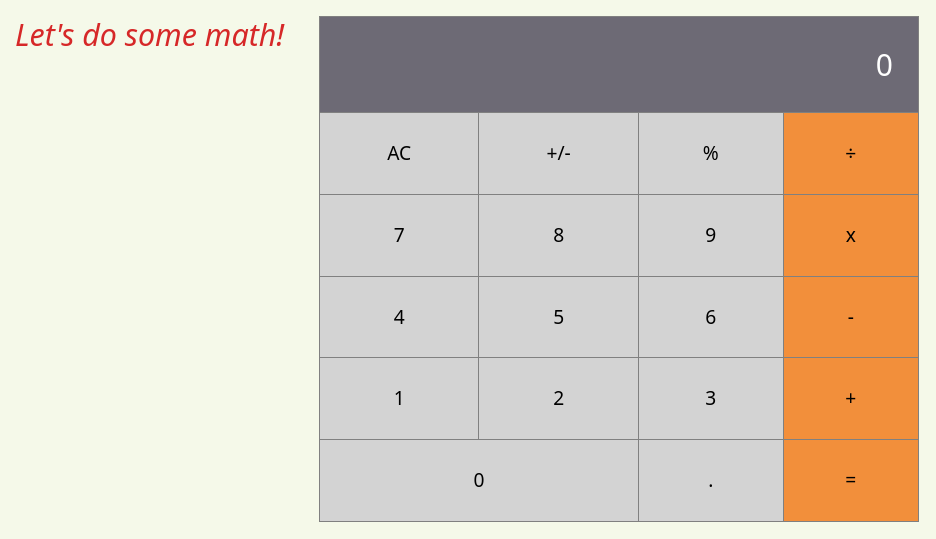
Calculator component › Subtraction is carried out correctly
Click the button "2". click: {"x": 559, "y": 399}
box: [547,383,570,414]
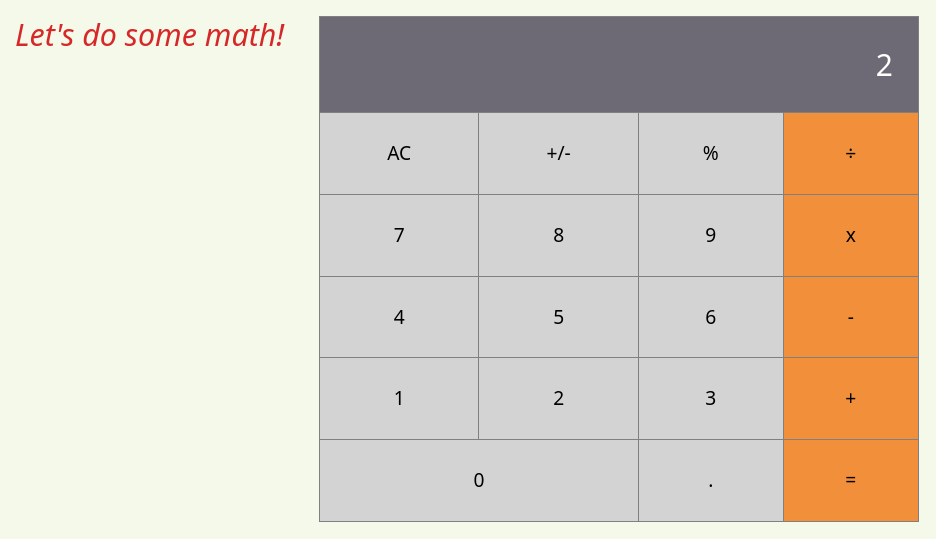
Click the button "-". click: {"x": 851, "y": 317}
box: [842,302,860,332]
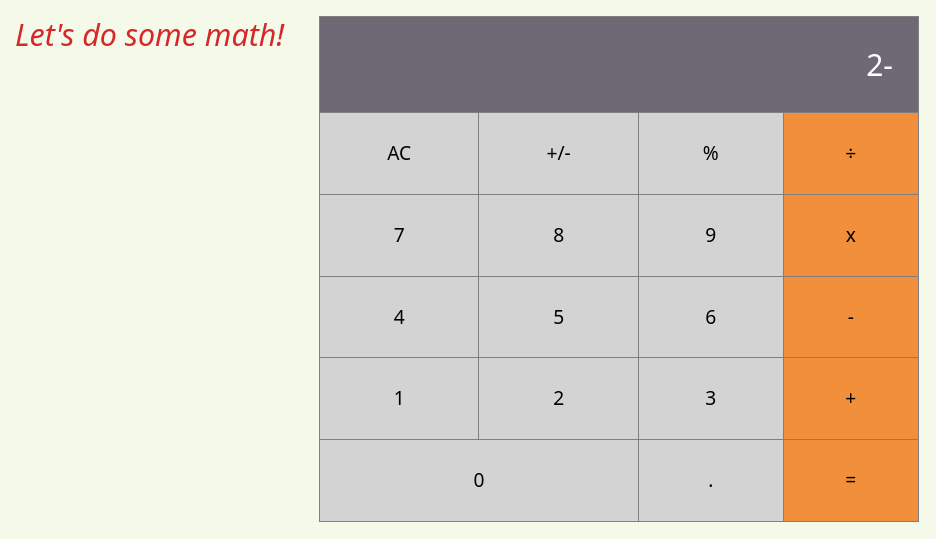
Click the button "2". click: {"x": 559, "y": 399}
box: [547,383,570,414]
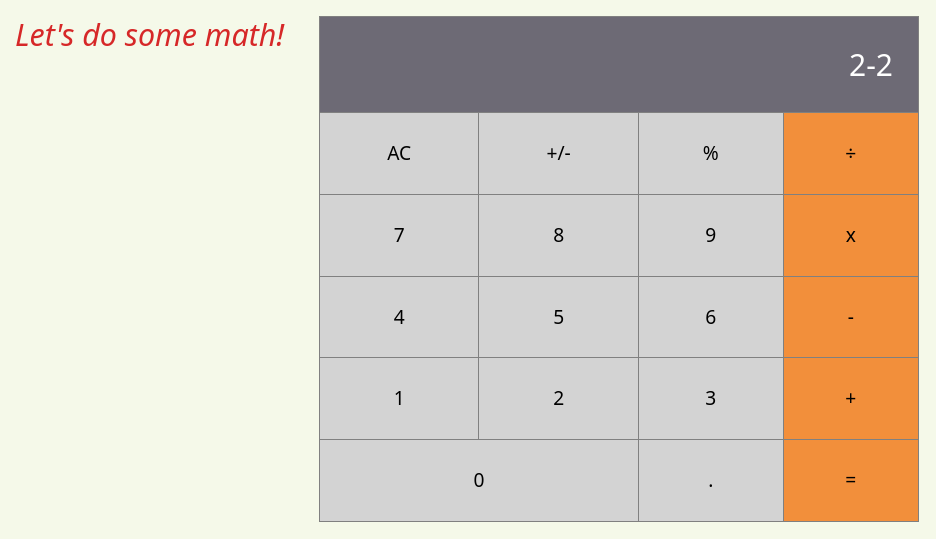
Click the button "=". click: {"x": 851, "y": 481}
box: [839,465,862,496]
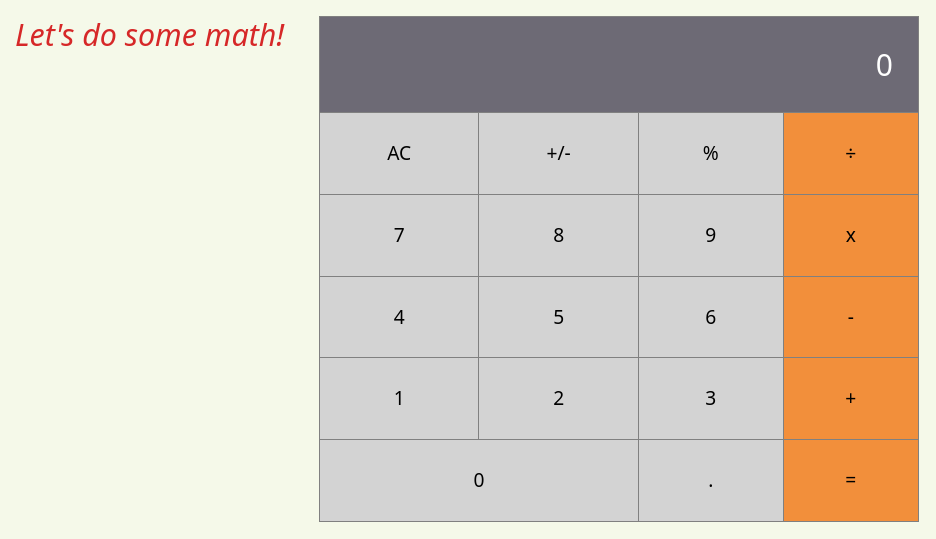
Expected: the text "0" is shown, [320,16,918,112]
